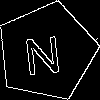N: (21, 26, 63, 76)
